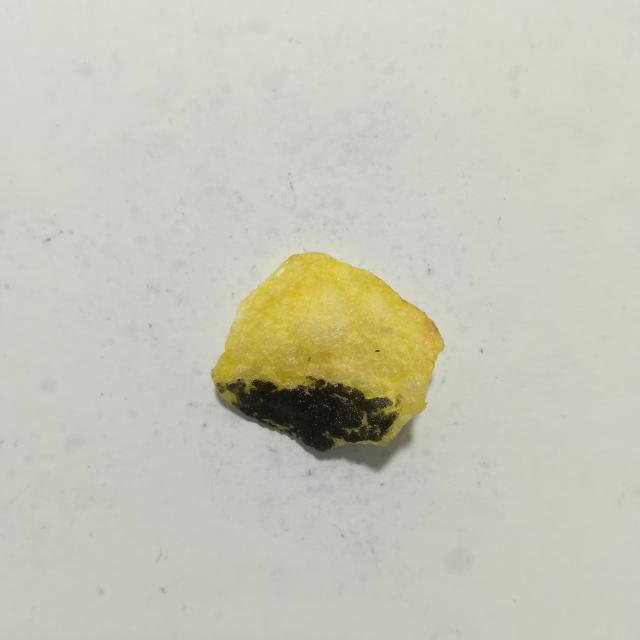chip: (211, 253, 444, 451)
damaged: (216, 377, 398, 451)
